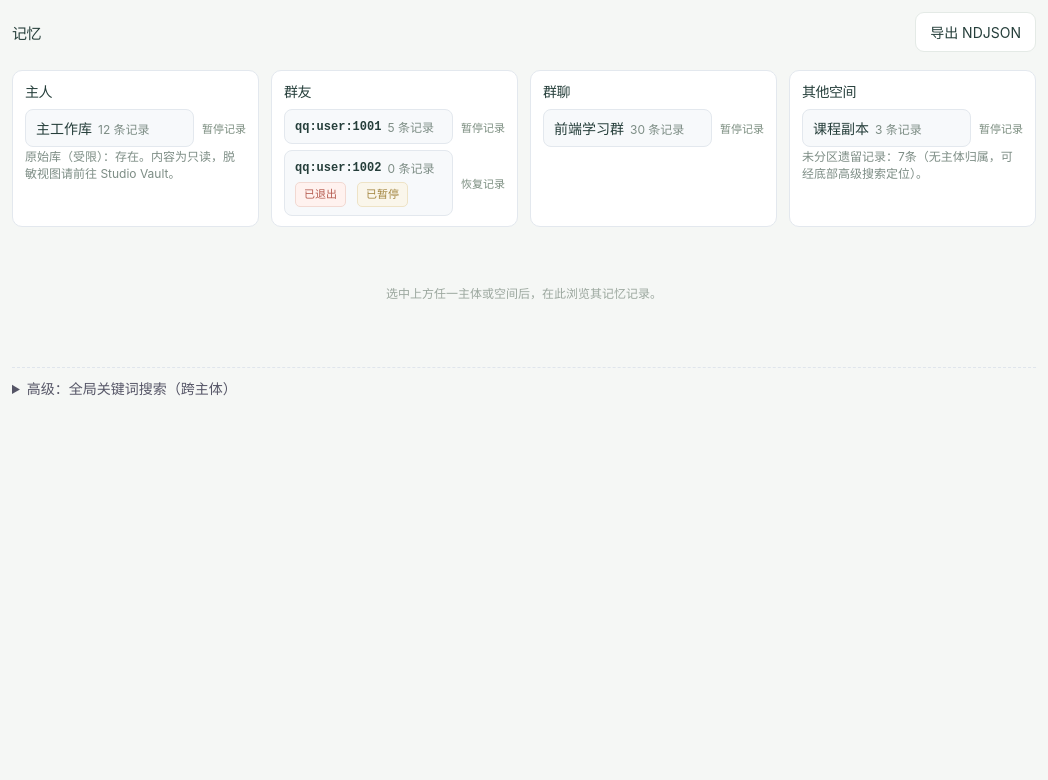
MemoryView 主体优先记忆管理 › 选中群友：按 principal_id 浏览，管理面全量可见且可治理（owner 决策 2026-11-01）
The width and height of the screenshot is (1048, 780).
Click the text "qq:user:1001": [338, 126] box [295,120,381,134]
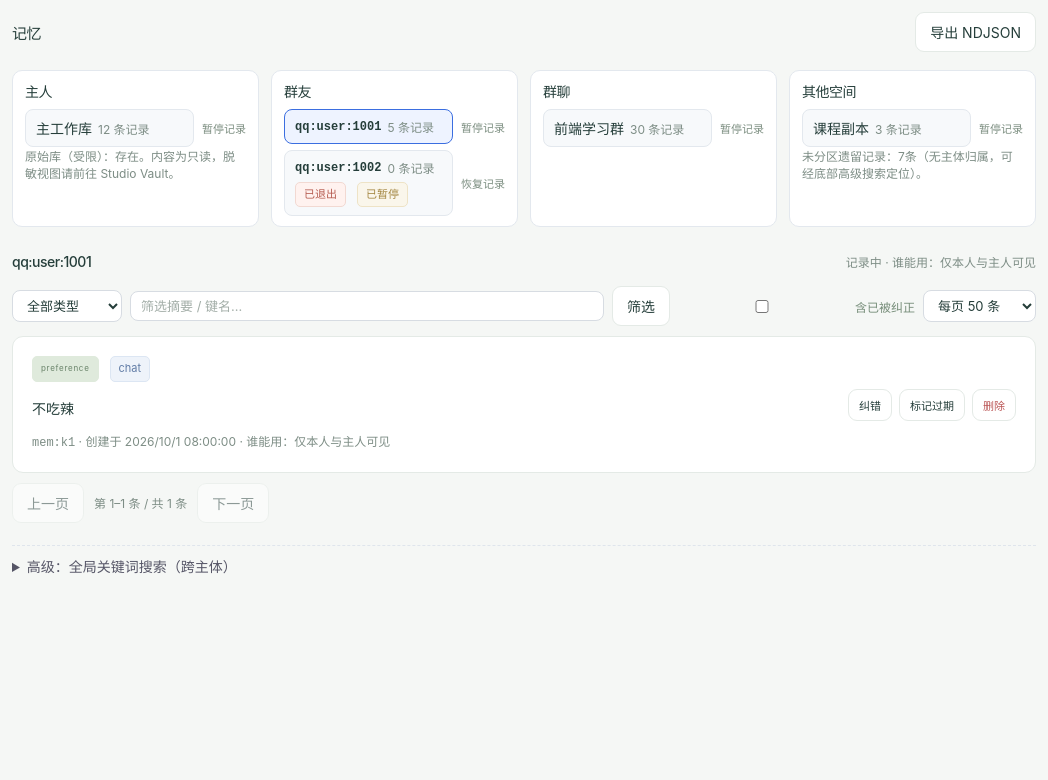
Check: the text "不吃辣" is shown, box [32,400,74,417]
Check: the text "mem:k1" is shown, box [32,436,75,450]
Check: the button "纠错" is shown, box [848,389,892,421]
